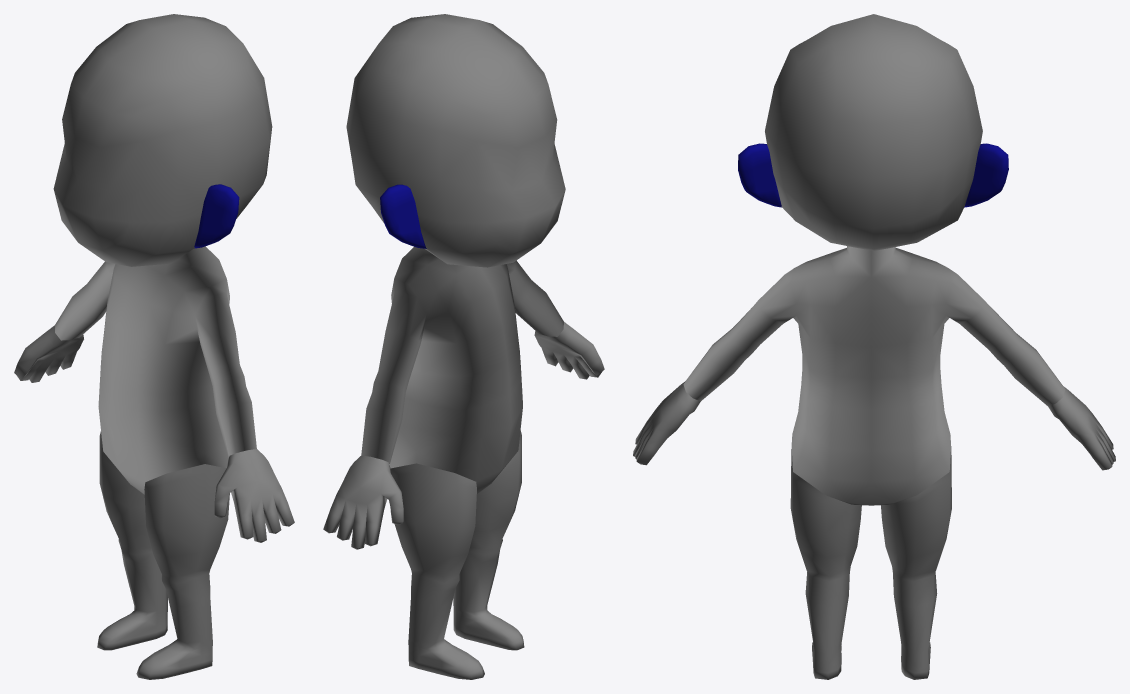
Rendered from Nendoroid.fbx.
3 views of the same model, side by side, from view 1: azimuth 30°, elevation 25°; view 2: azimuth 150°, elevation 25°; view 3: azimuth 270°, elevation 25° (orthographic). The views are drawn at different scales.
Visible parts, largest first — view 1: Box002, head, leftear; view 2: Box002, head, leftear; view 3: Box002, head, leftear.
Part boxes in pixels (x1,y1,x2,y2): Box002: (14,246,294,679); head: (53,14,272,266); leftear: (194,184,239,248); Box002: (323,246,604,679); head: (346,14,565,267); leftear: (380,184,426,248); Box002: (633,246,1115,679); head: (765,14,982,250); leftear: (738,143,1008,207).
Size of the model in its own units: 91.03 by 274 by 184.
